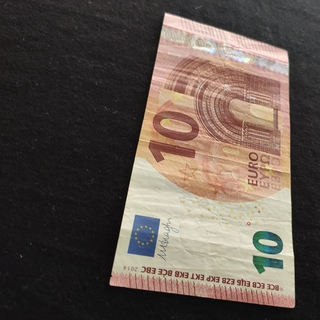10EUROFront: (108, 11, 295, 309)
